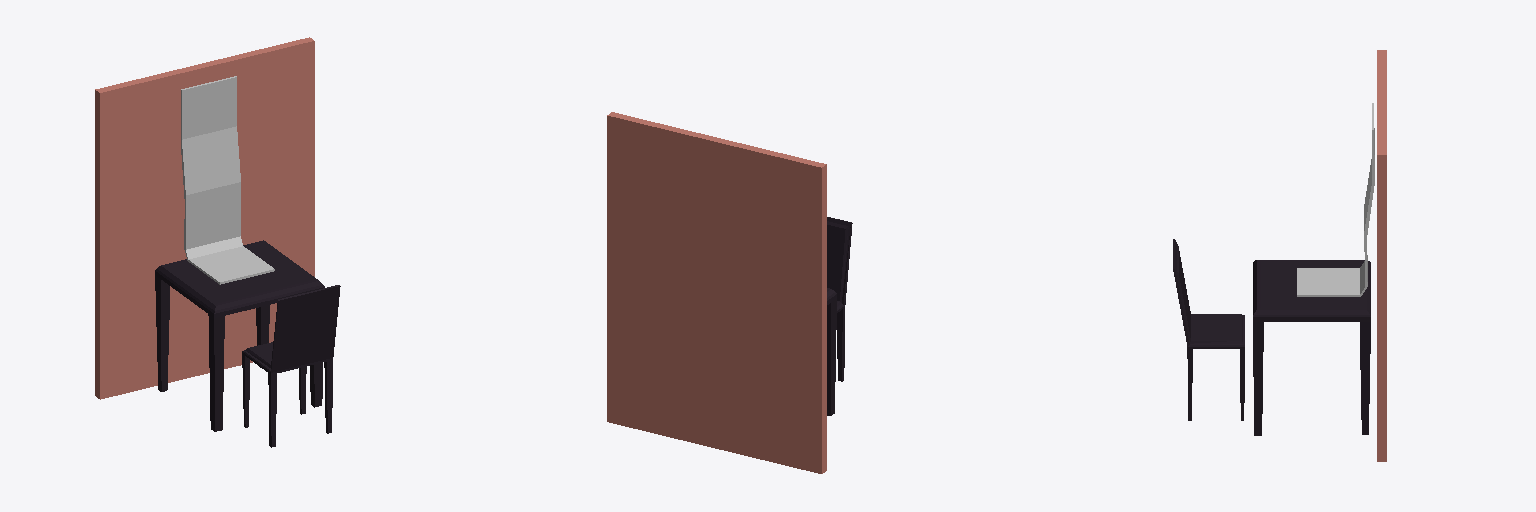
The model's file is k_deh_setting.obj.
3 views of the same model, side by side, from view 1: azimuth 30°, elevation 25°; view 2: azimuth 150°, elevation 25°; view 3: azimuth 270°, elevation 25° (orthographic).
Parts seen in each view (by area): view 1: wall_Cube.002, Cube, table_Cube.001, chair_Cube.003; view 2: wall_Cube.002, chair_Cube.003, table_Cube.001; view 3: table_Cube.001, wall_Cube.002, chair_Cube.003, Cube.
Boxes of the visible parts, x1=… form: wall_Cube.002: x1=95, y1=37, x2=314, y2=399; Cube: x1=181, y1=76, x2=274, y2=284; table_Cube.001: x1=155, y1=240, x2=324, y2=431; chair_Cube.003: x1=242, y1=285, x2=340, y2=447; wall_Cube.002: x1=607, y1=112, x2=826, y2=473; chair_Cube.003: x1=827, y1=217, x2=852, y2=381; table_Cube.001: x1=827, y1=288, x2=836, y2=415; table_Cube.001: x1=1253, y1=260, x2=1370, y2=435; wall_Cube.002: x1=1377, y1=50, x2=1386, y2=461; chair_Cube.003: x1=1173, y1=239, x2=1244, y2=420; Cube: x1=1297, y1=103, x2=1374, y2=296.
Size of the model in its own units: 26.52 by 36.25 by 22.88.